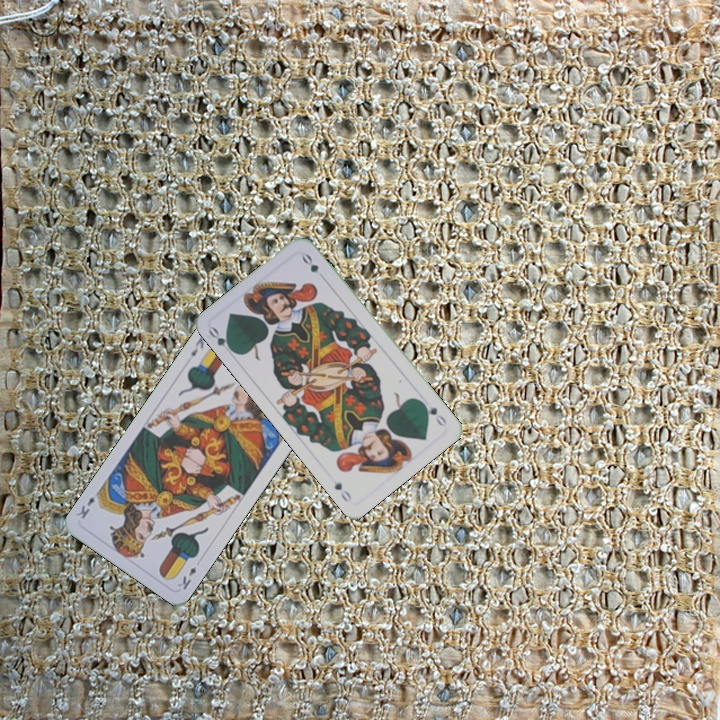EK: (173, 562, 199, 592), (186, 331, 207, 359)
GO: (204, 323, 238, 357), (417, 397, 449, 429)
